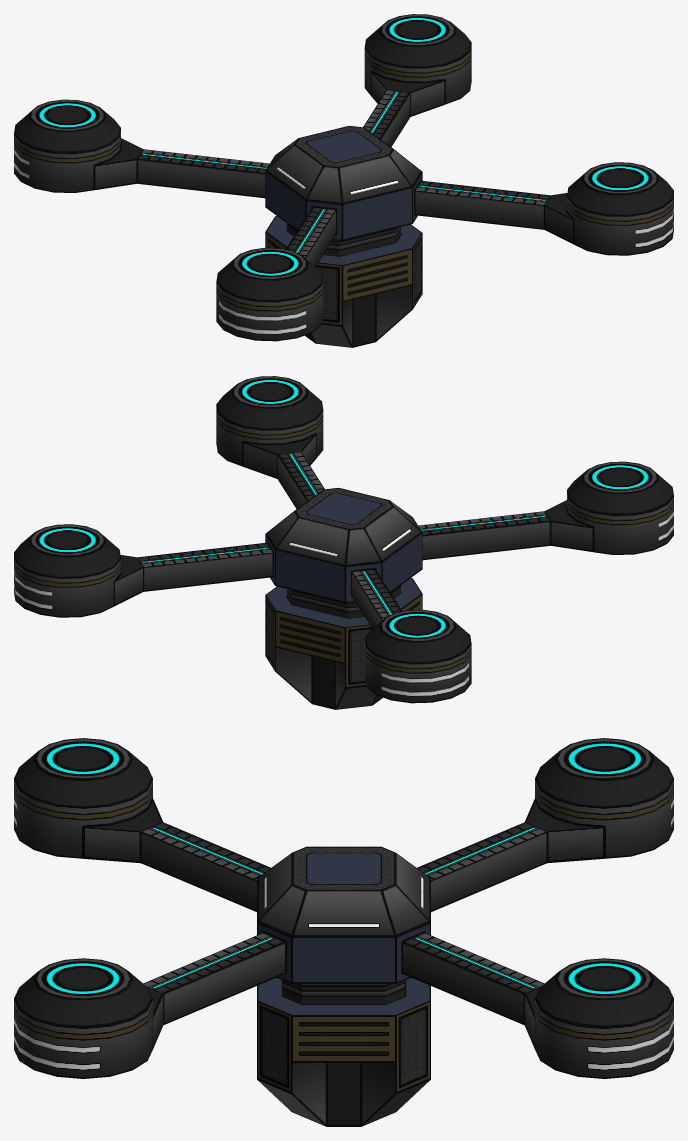
Rendered from resource_drone_2.fbx.
3 renders of one model, top to bottom at view 1: azimuth 30°, elevation 25°; view 2: azimuth 150°, elevation 25°; view 3: azimuth 270°, elevation 25°, orthographic. The views are drawn at different scales.
Parts seen in each view (by area): view 1: main; view 2: main; view 3: main.
Part boxes in pixels (left/top/right/bottom): main: left=14, top=14, right=673, bottom=347; main: left=14, top=376, right=673, bottom=709; main: left=14, top=738, right=673, bottom=1126.
Size of the model in its own units: 304 by 120 by 304.
